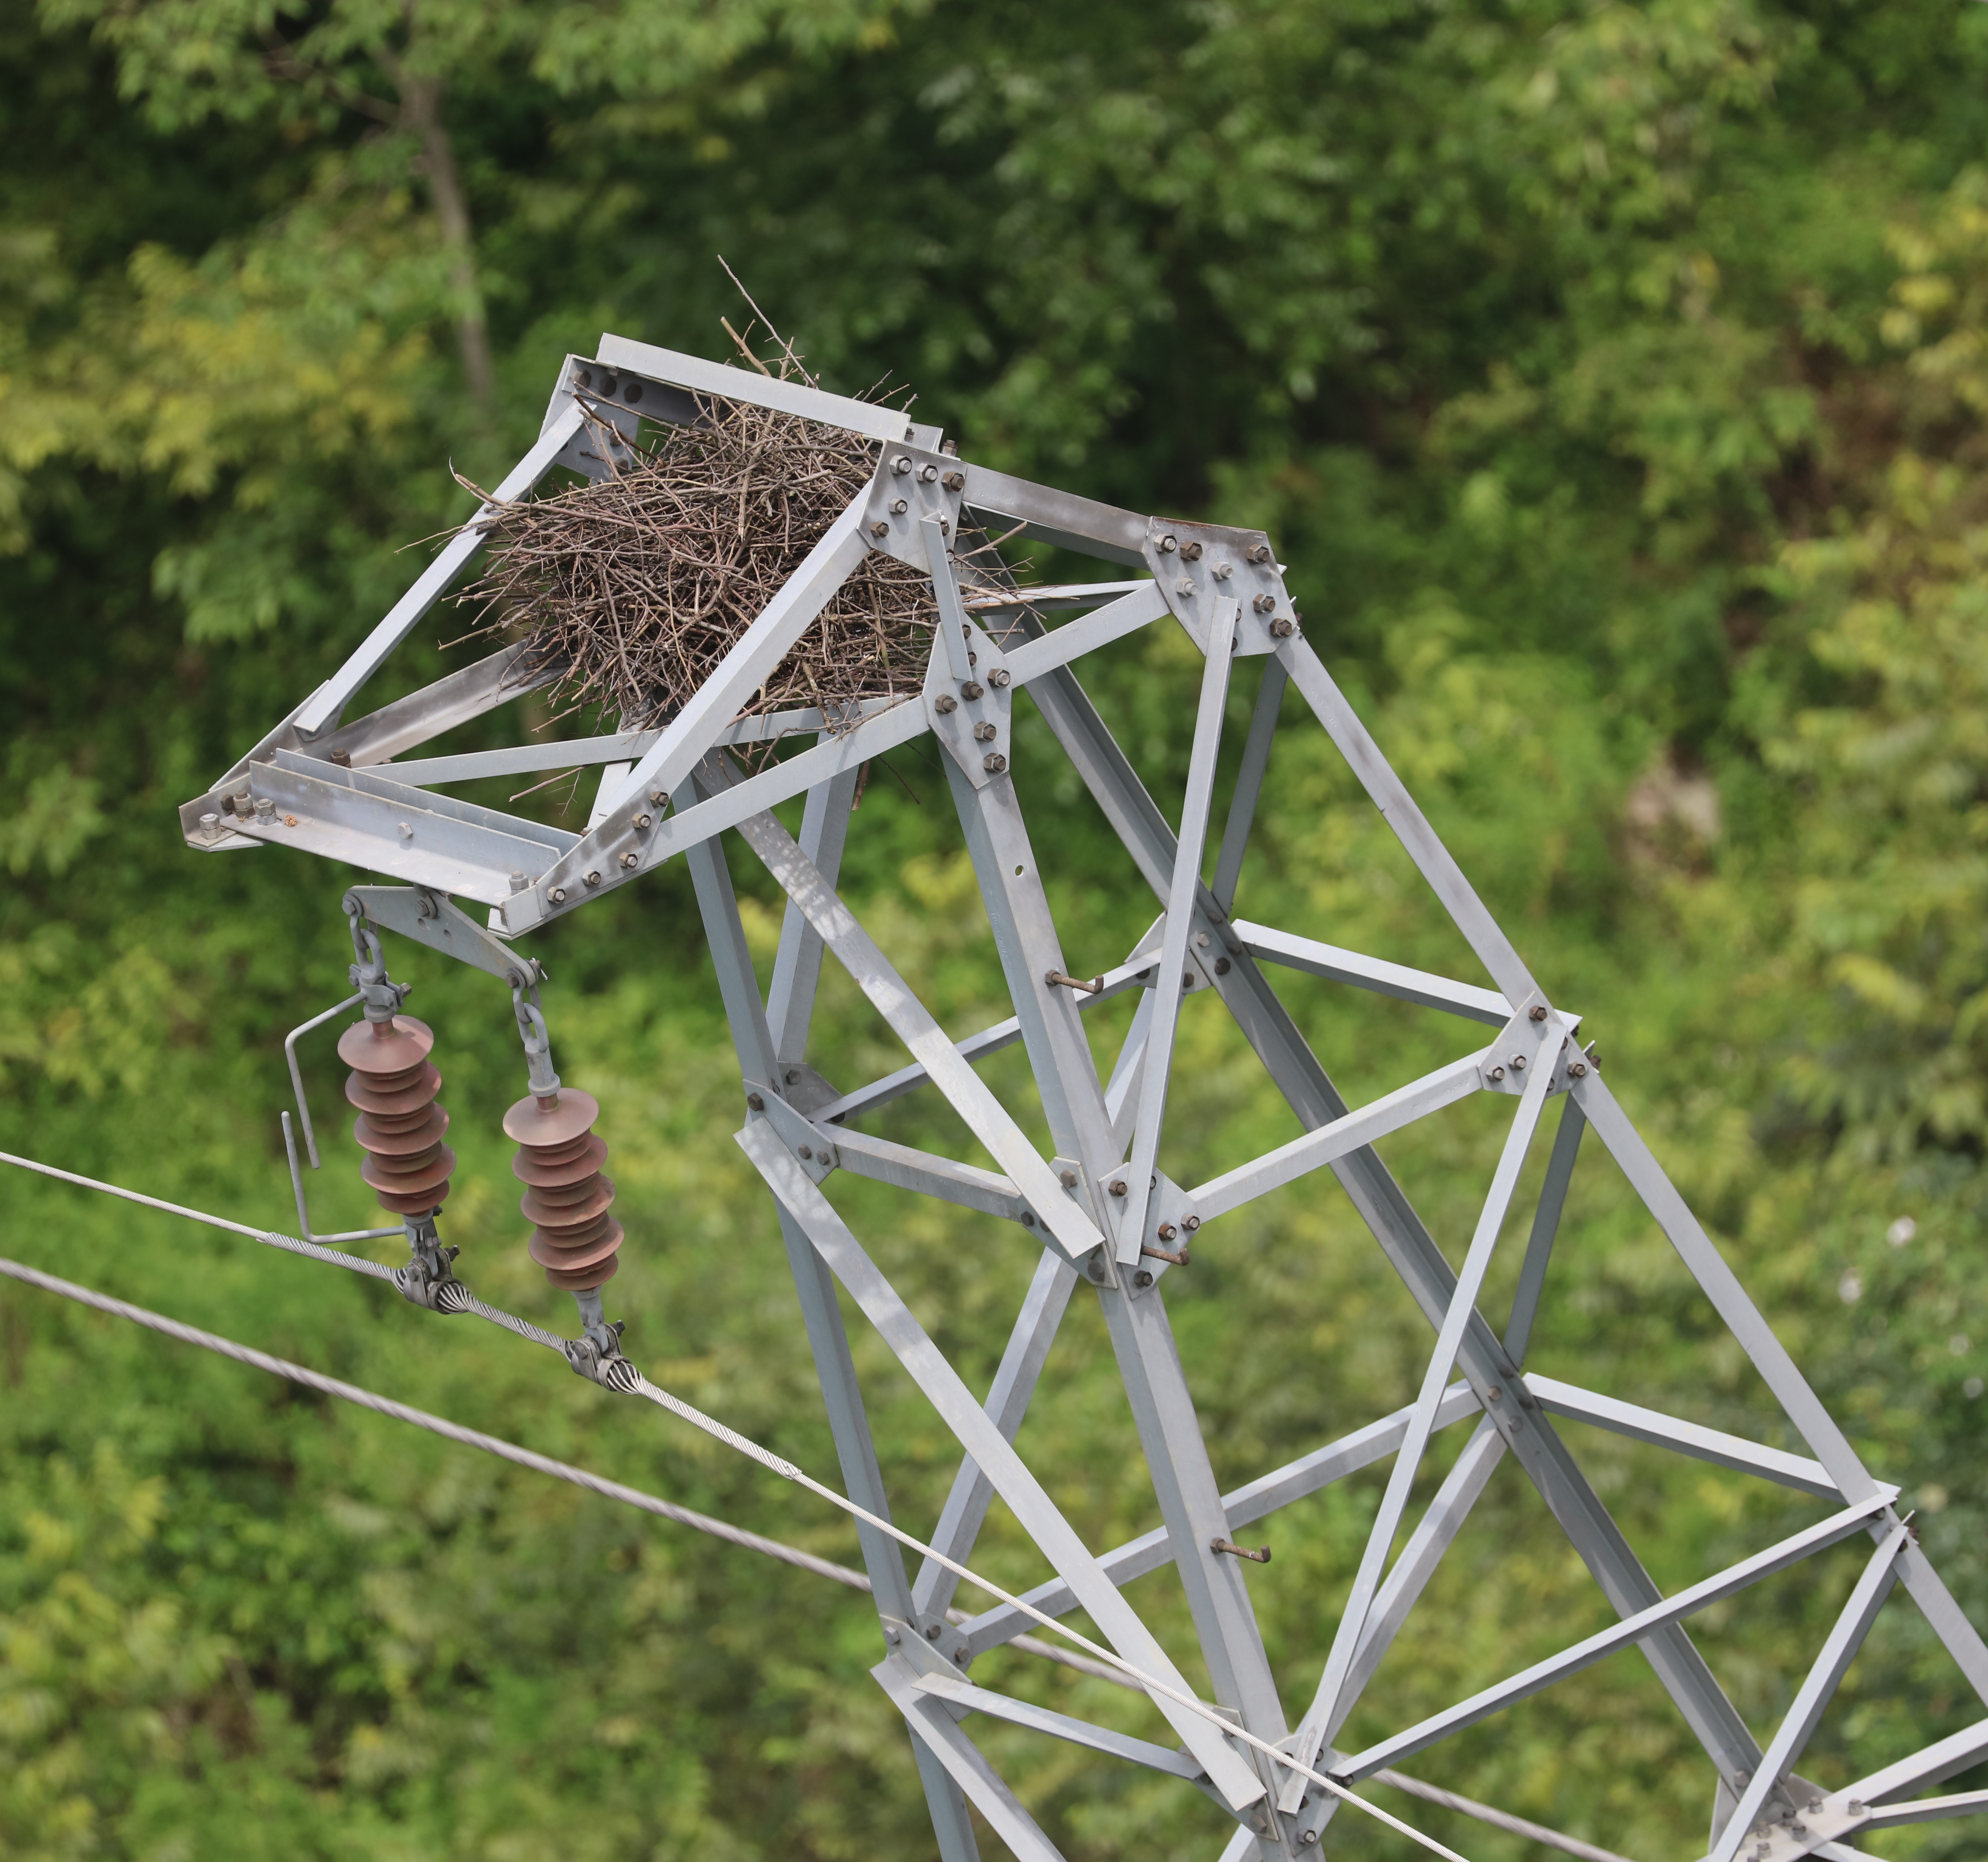niaowo: (438, 313, 987, 775)
